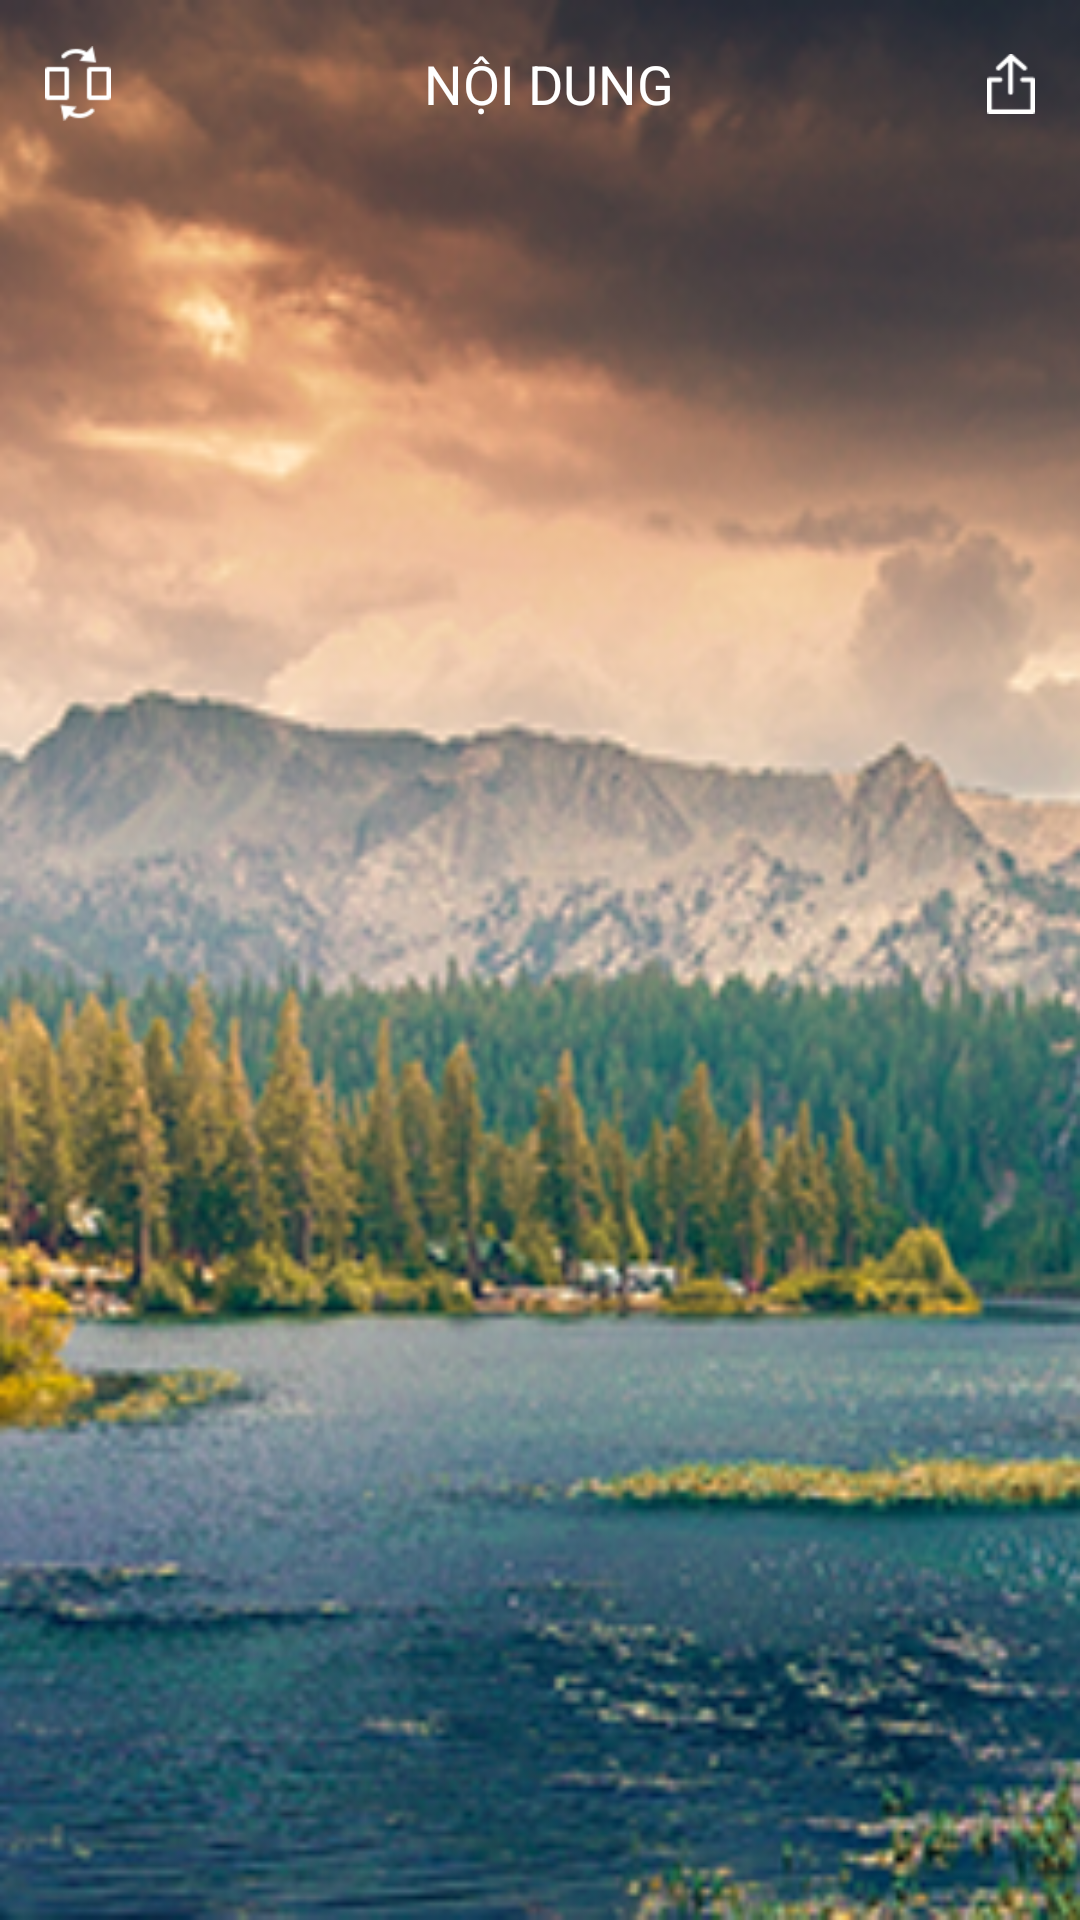

Screen size 1080 × 1920. Icon name, then its center in pixels as (x=x, y=y):
change activity: (x=78, y=83)
